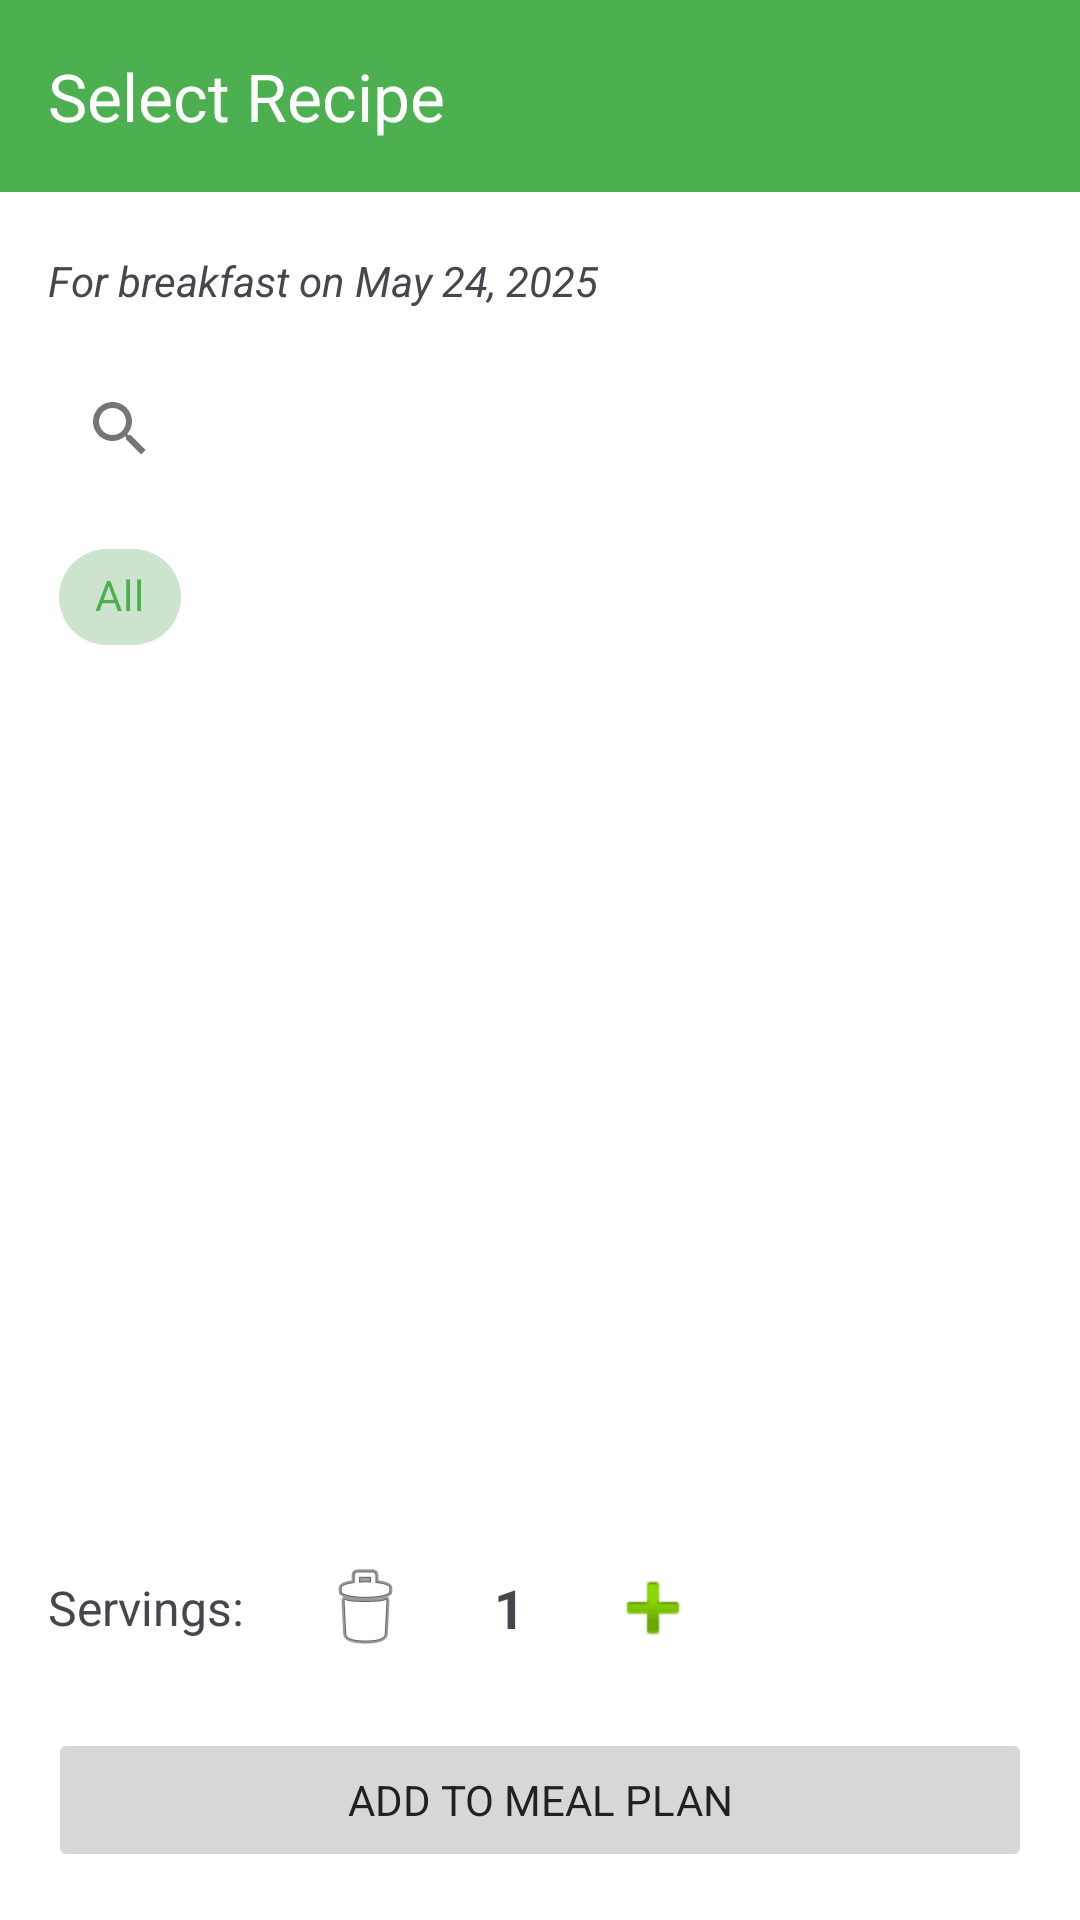

Locate icon controls on the screen. Image size 1080w x 1920h, boxes as (x1, y1, x2, y2).
Increase servings: (626, 1581, 680, 1635)
